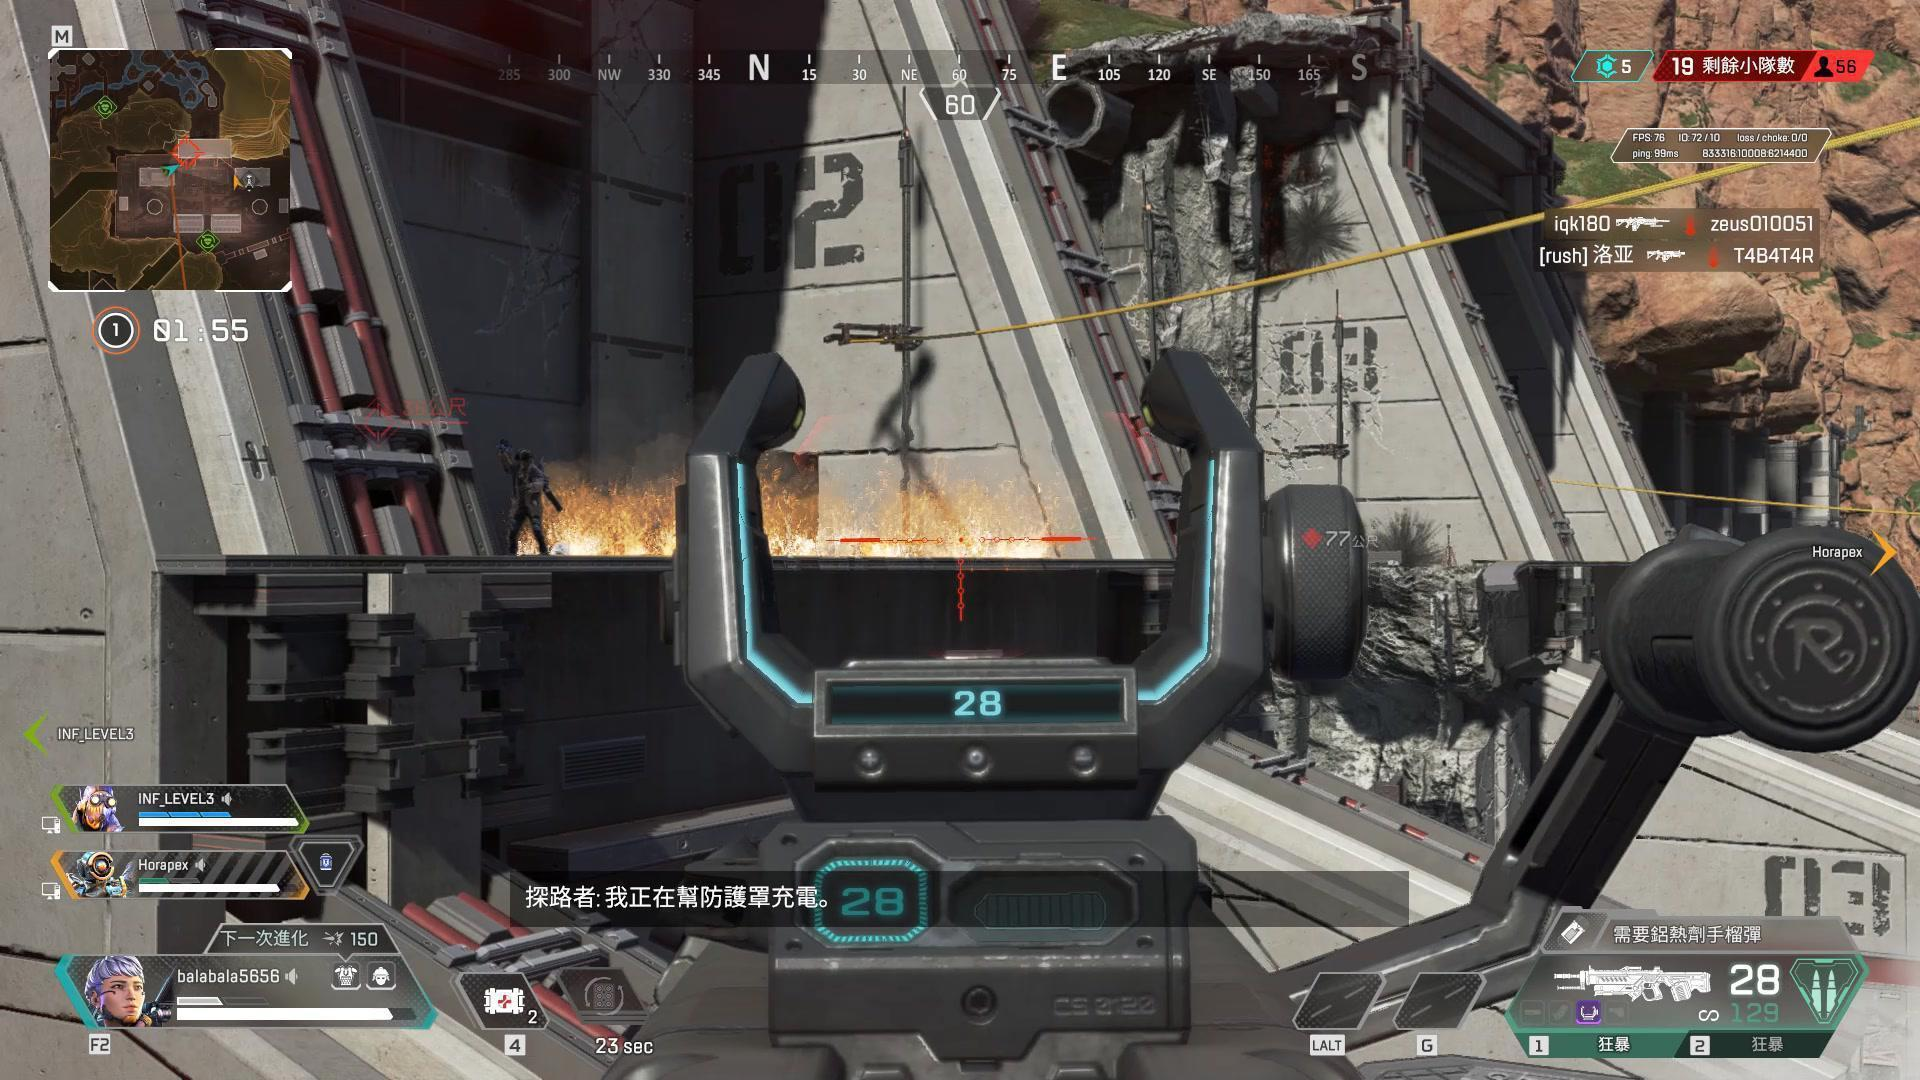avatar: (500, 446, 551, 556)
